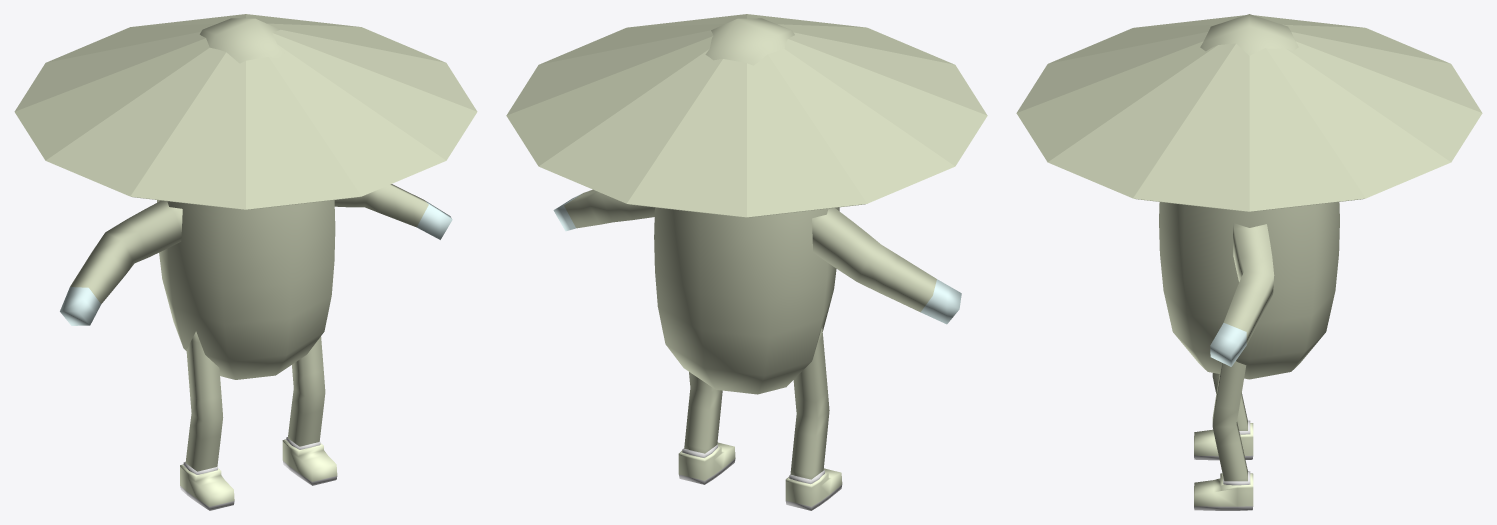
The model's file is rice_B.fbx.
3 views of the same model, side by side, from view 1: azimuth 30°, elevation 25°; view 2: azimuth 150°, elevation 25°; view 3: azimuth 270°, elevation 25° (orthographic). The views are drawn at different scales.
Visible parts, largest first — view 1: rice_B; view 2: rice_B; view 3: rice_B.
Part boxes in pixels (<box>): rice_B: <box>14,14,477,510</box>; rice_B: <box>506,14,987,510</box>; rice_B: <box>1016,14,1482,510</box>.
Size of the model in its own units: 200 by 217 by 200.
